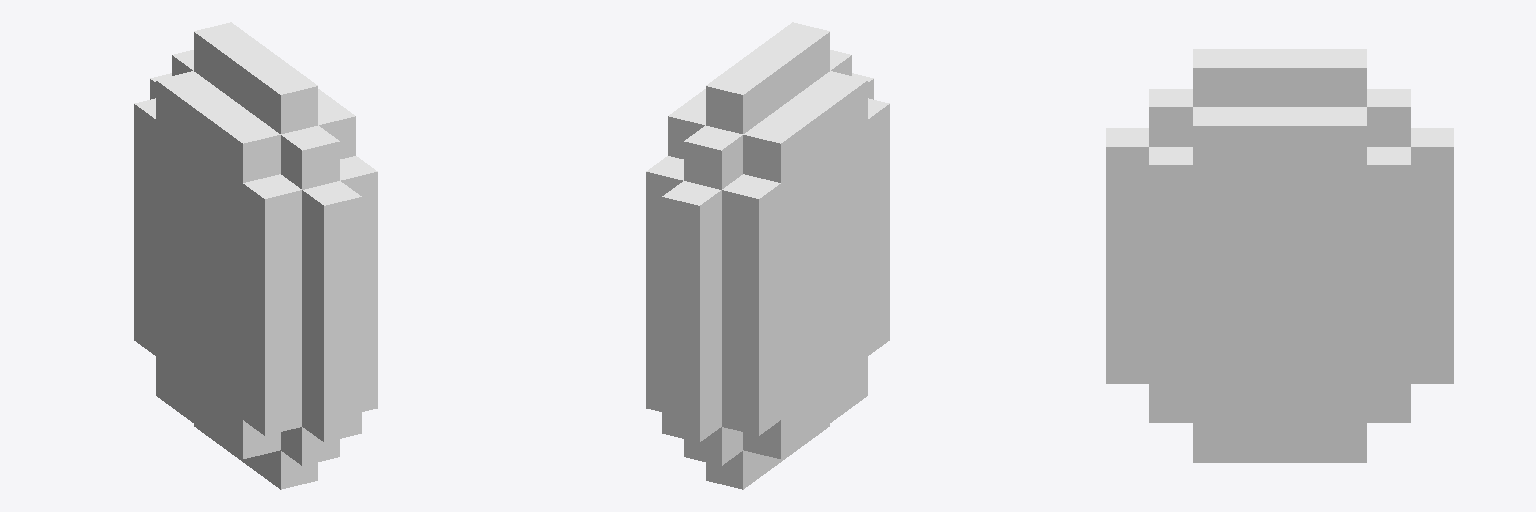
The model's file is game-7.obj.
3 renders of one model, left to right at view 1: azimuth 30°, elevation 25°; view 2: azimuth 150°, elevation 25°; view 3: azimuth 270°, elevation 25°, orthographic.
Parts seen in each view (by area): view 1: object 1; view 2: object 1; view 3: object 1.
Part boxes in pixels (left/top/right/bottom): object 1: left=134, top=22, right=377, bottom=489; object 1: left=646, top=22, right=889, bottom=489; object 1: left=1106, top=49, right=1453, bottom=462.
Bounding box in the file's own units: 0.3 × 1 × 0.8.